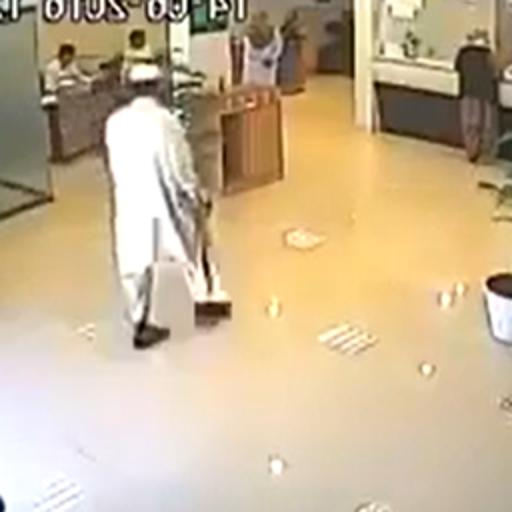Humans: (86, 52, 253, 349), (446, 21, 512, 171), (277, 8, 322, 95), (236, 13, 286, 83), (39, 39, 84, 93), (124, 24, 156, 63)
